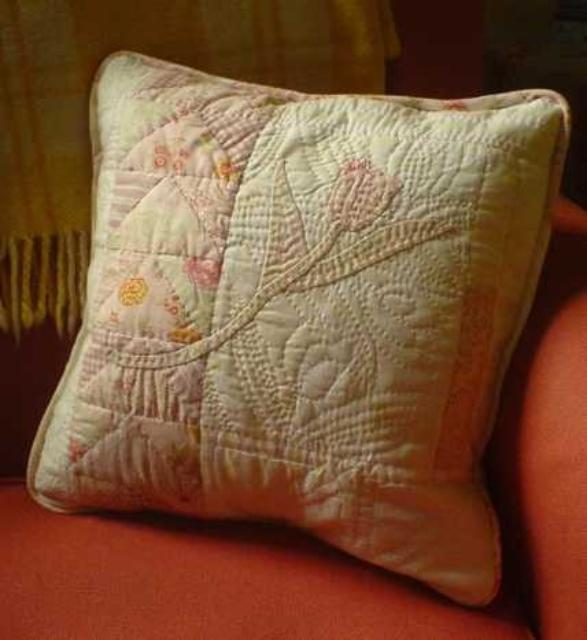pillow: (23, 48, 572, 608)
